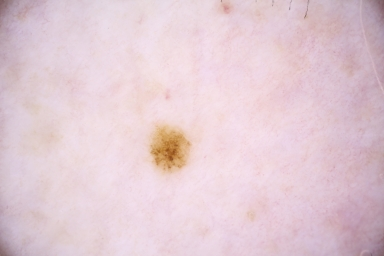nevus: (147, 127, 195, 172)
